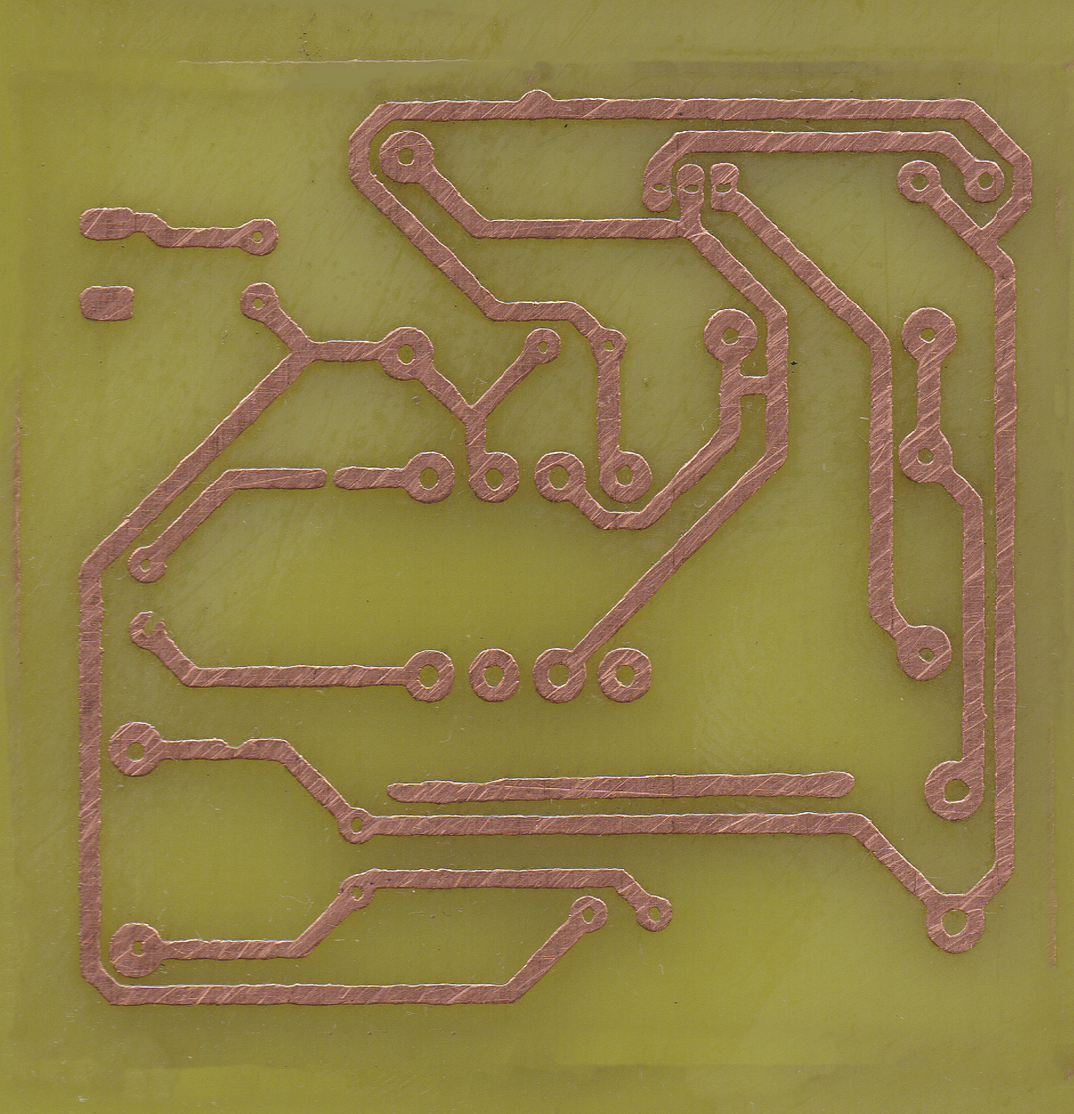missing_hole: (127, 609, 172, 651)
mouse_bite: (213, 738, 262, 761)
open_circuit: (311, 467, 349, 490)
short: (719, 365, 786, 406)
spur: (516, 88, 559, 124)
spurious_copper: (383, 769, 860, 805)
